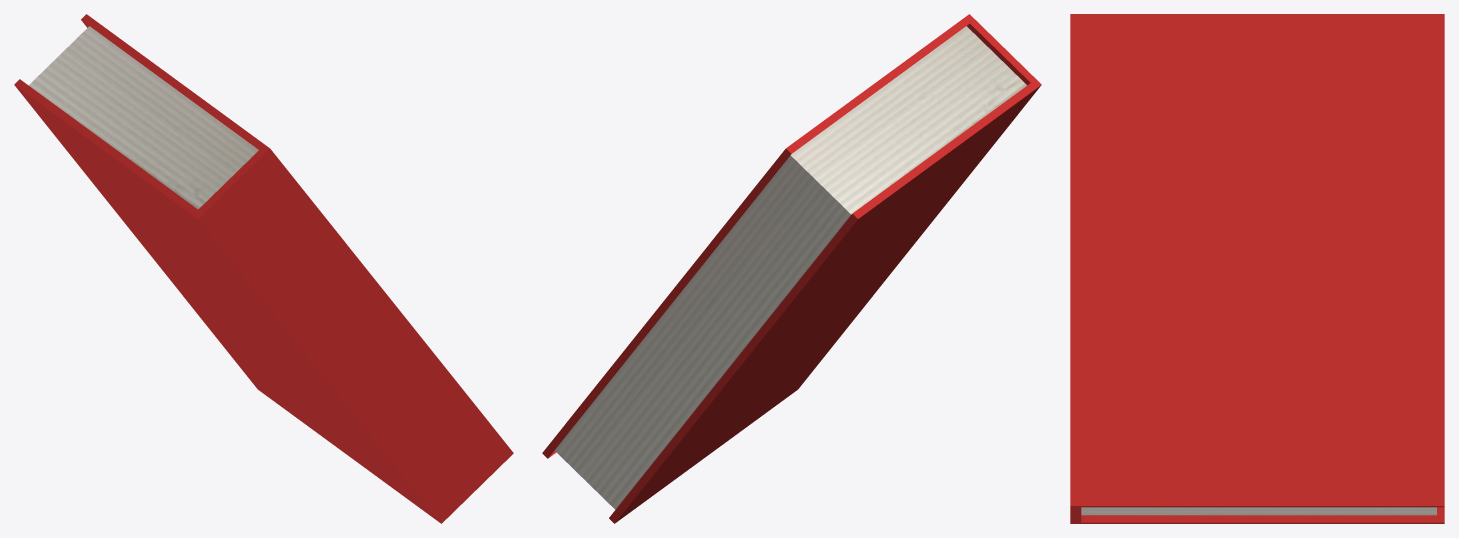
File: red_book.glb
3 views of the same model, side by side, from view 1: azimuth 30°, elevation 25°; view 2: azimuth 150°, elevation 25°; view 3: azimuth 270°, elevation 25° (orthographic).
Parts seen in each view (by area): view 1: Cover_0, Cube_1; view 2: Cube_1, Cover_0; view 3: Cover_0, Cube_1.
Boxes of the visible parts, x1,y1,x2,y2 form: Cover_0: (14, 14, 513, 523); Cube_1: (29, 26, 258, 209); Cube_1: (554, 26, 1026, 509); Cover_0: (542, 14, 1041, 523); Cover_0: (1070, 14, 1444, 523); Cube_1: (1081, 507, 1436, 515).
Size of the model in its own units: 0.5399 by 0.681 by 0.5435.
2 materials, 1 textured.
